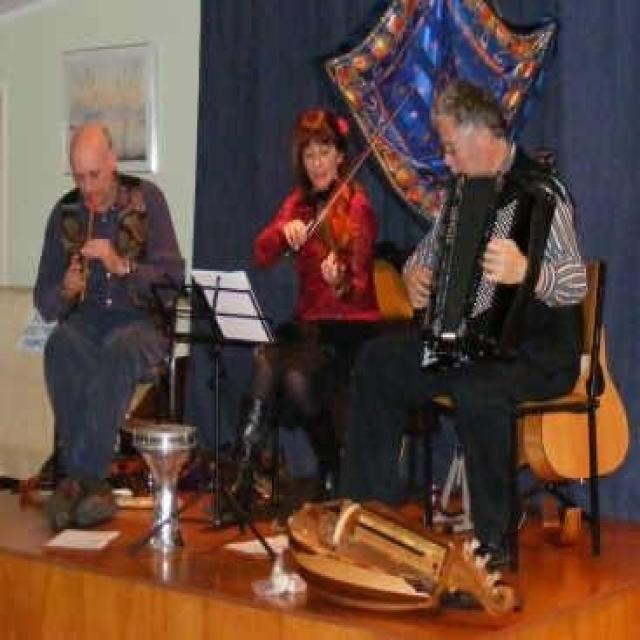violin: (319, 169, 364, 305)
